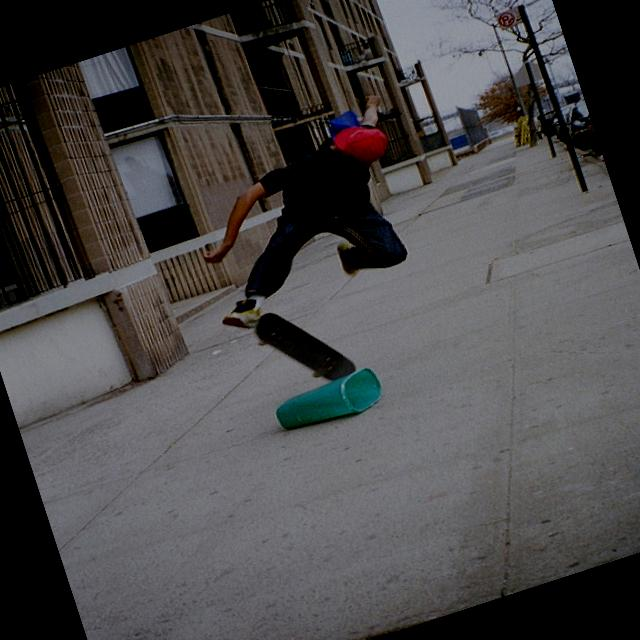Vehicle: (560, 95, 602, 158), (548, 102, 588, 150), (576, 96, 604, 164), (544, 111, 560, 136)
